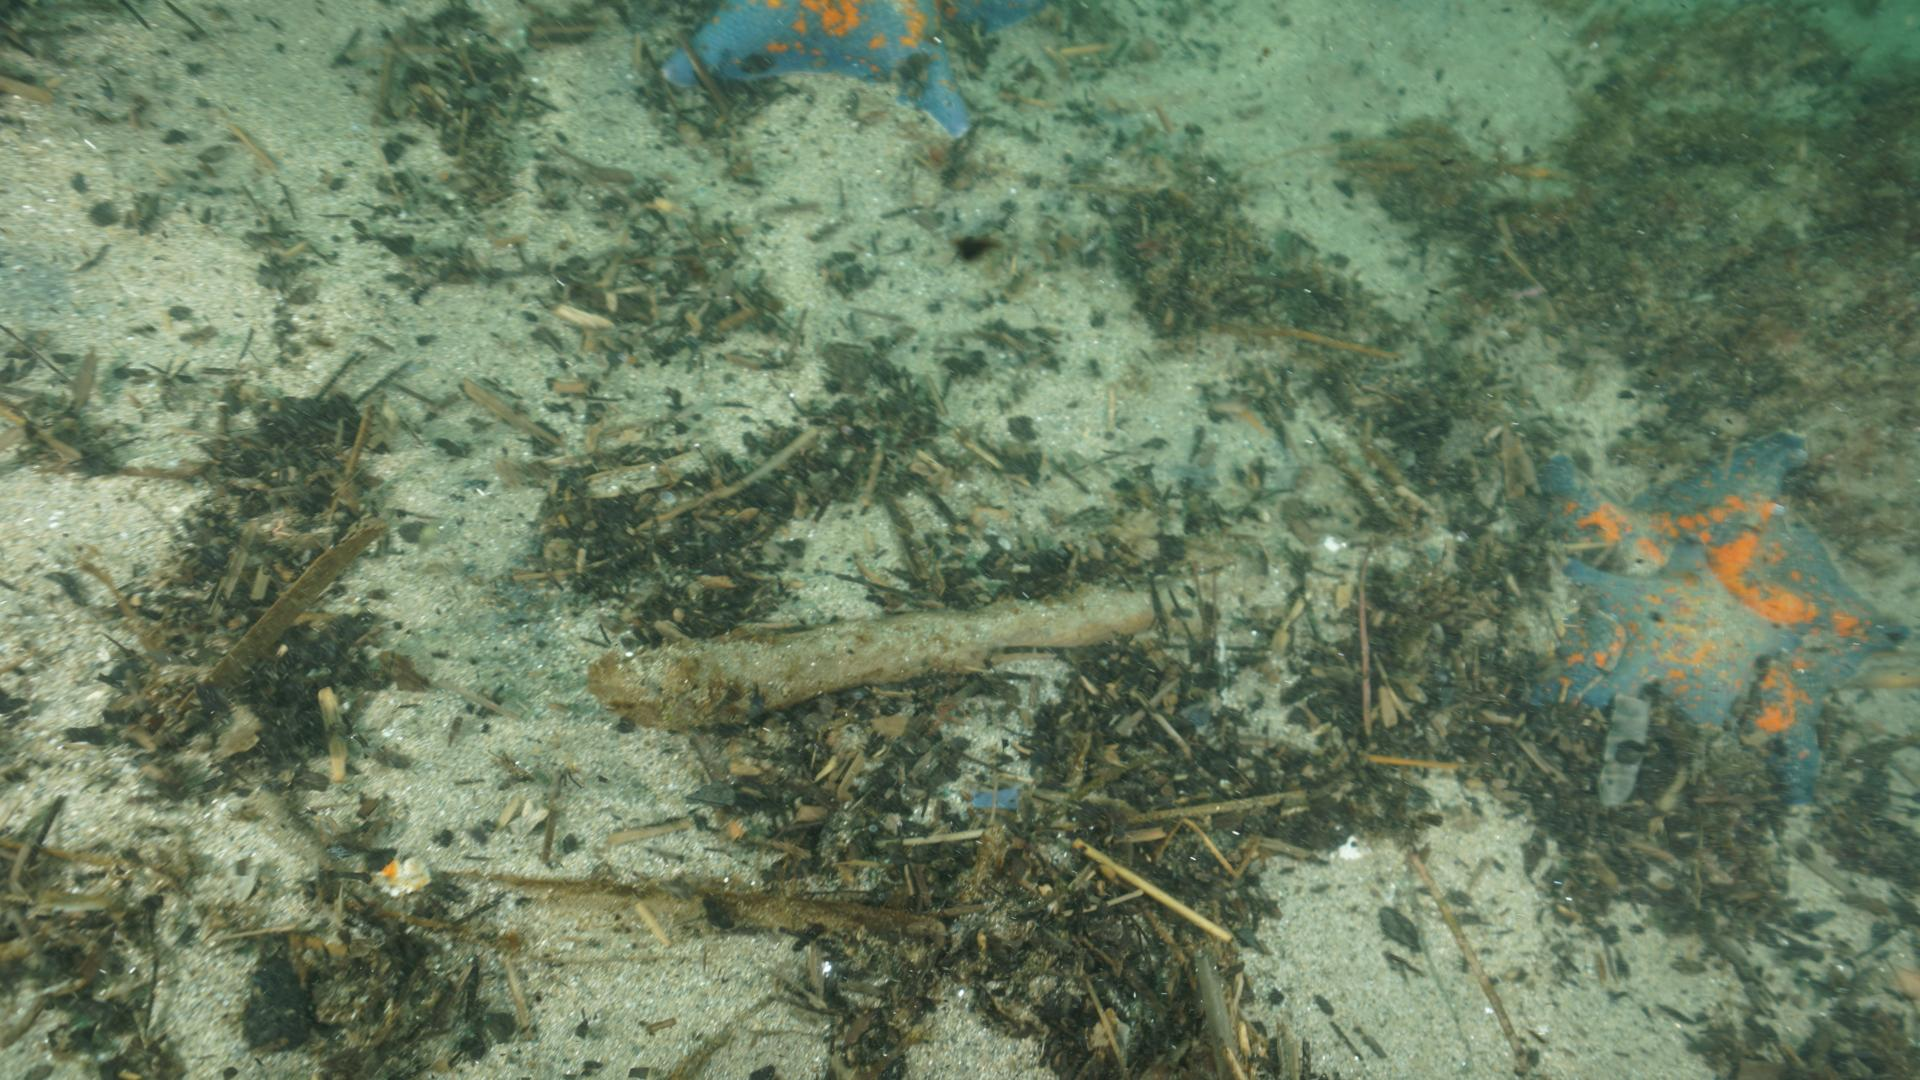wood: (585, 570, 1204, 723)
